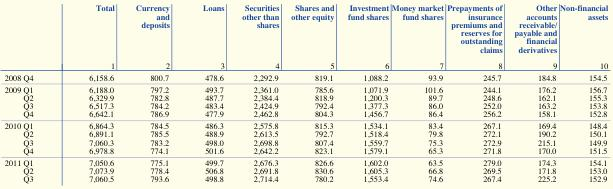table: (3, 4, 607, 183)
table column: (60, 4, 124, 183), (444, 4, 507, 183), (124, 4, 185, 183), (284, 4, 340, 183), (389, 4, 444, 183), (232, 4, 284, 183), (507, 4, 557, 183), (557, 4, 607, 183), (340, 4, 389, 183), (185, 4, 232, 183), (21, 4, 60, 183), (3, 4, 21, 183)
table column header: (3, 4, 607, 71)
table row: (3, 4, 607, 71), (3, 71, 607, 83), (3, 83, 607, 93), (3, 110, 607, 120), (3, 120, 607, 130), (3, 146, 607, 156), (3, 156, 607, 166), (3, 101, 607, 110), (3, 174, 607, 183), (3, 93, 607, 101), (3, 130, 607, 138), (3, 138, 607, 146), (3, 166, 607, 174)
table spanning cell: (3, 83, 21, 120), (3, 120, 21, 156), (3, 156, 21, 183)
